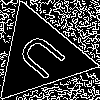U: (15, 31, 76, 89)
